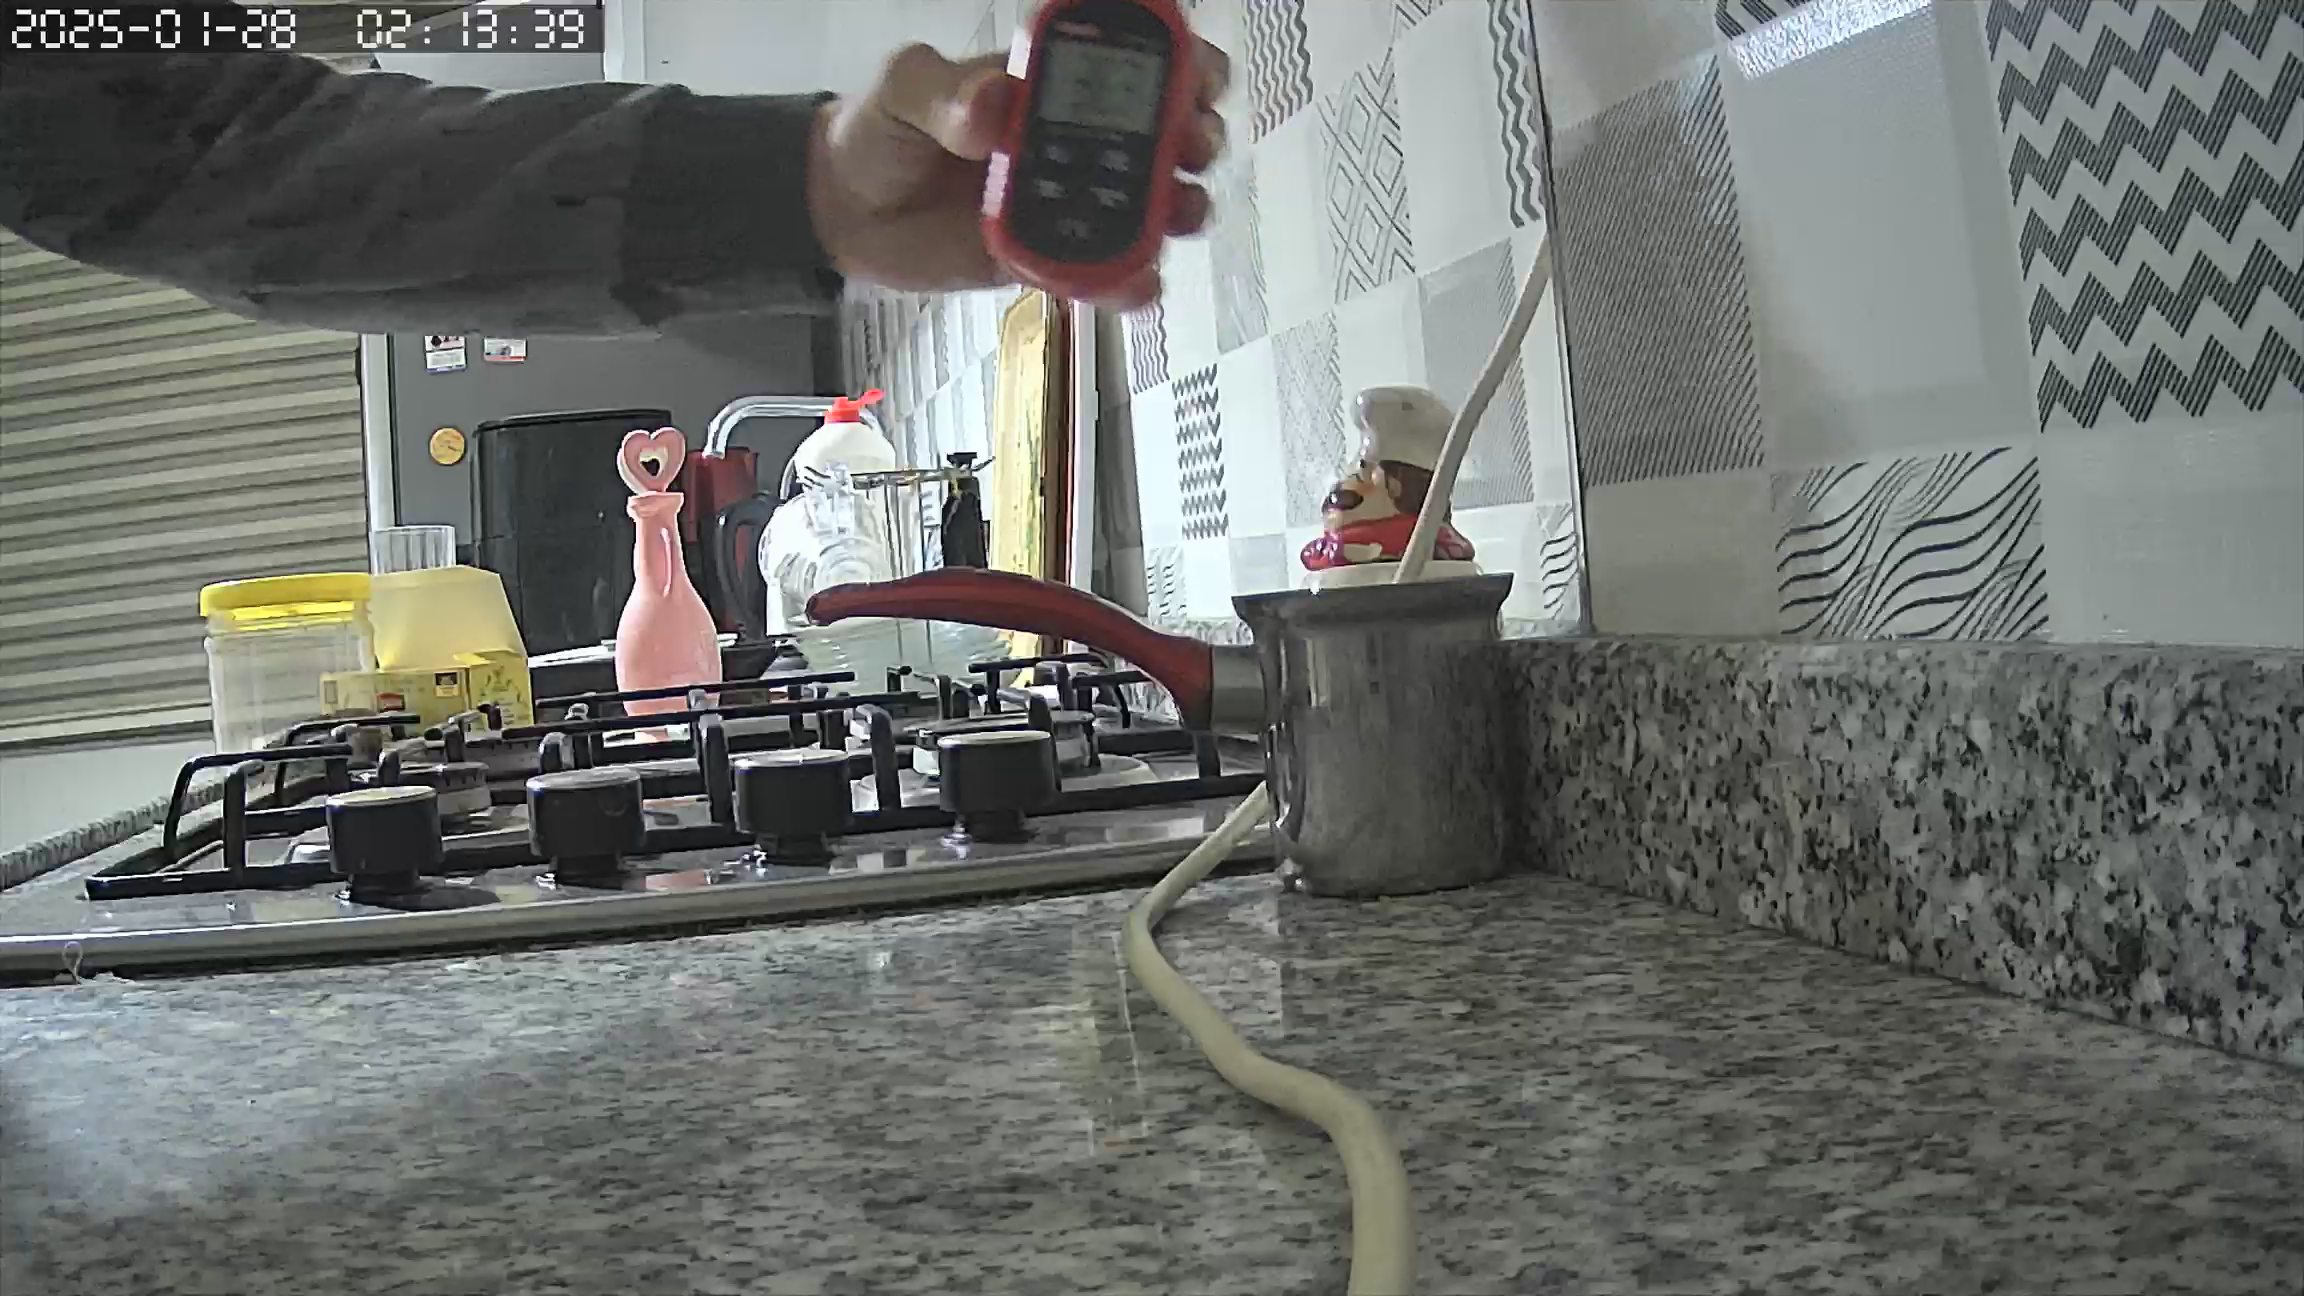screen: (1036, 40, 1163, 139)
